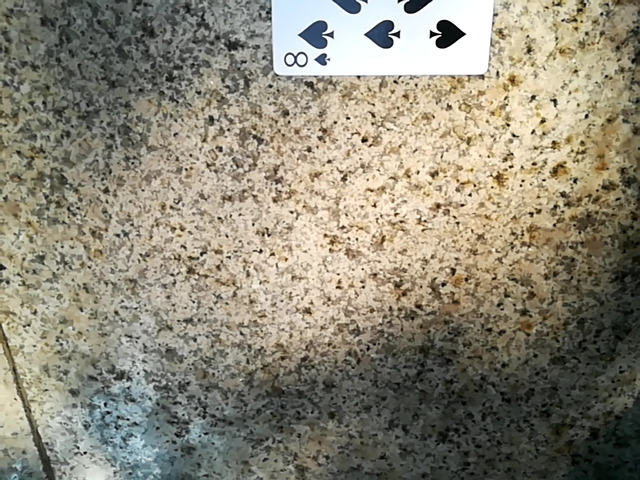ht 8: (244, 0, 506, 77)
